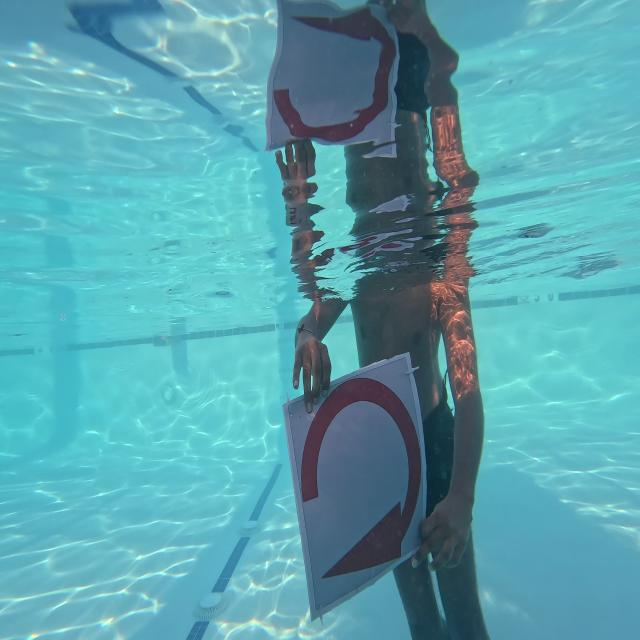red_side: (285, 365, 431, 592)
